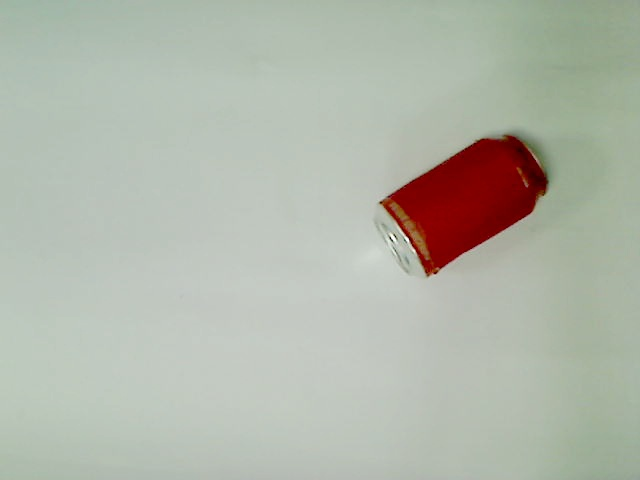can: (372, 134, 554, 282)
